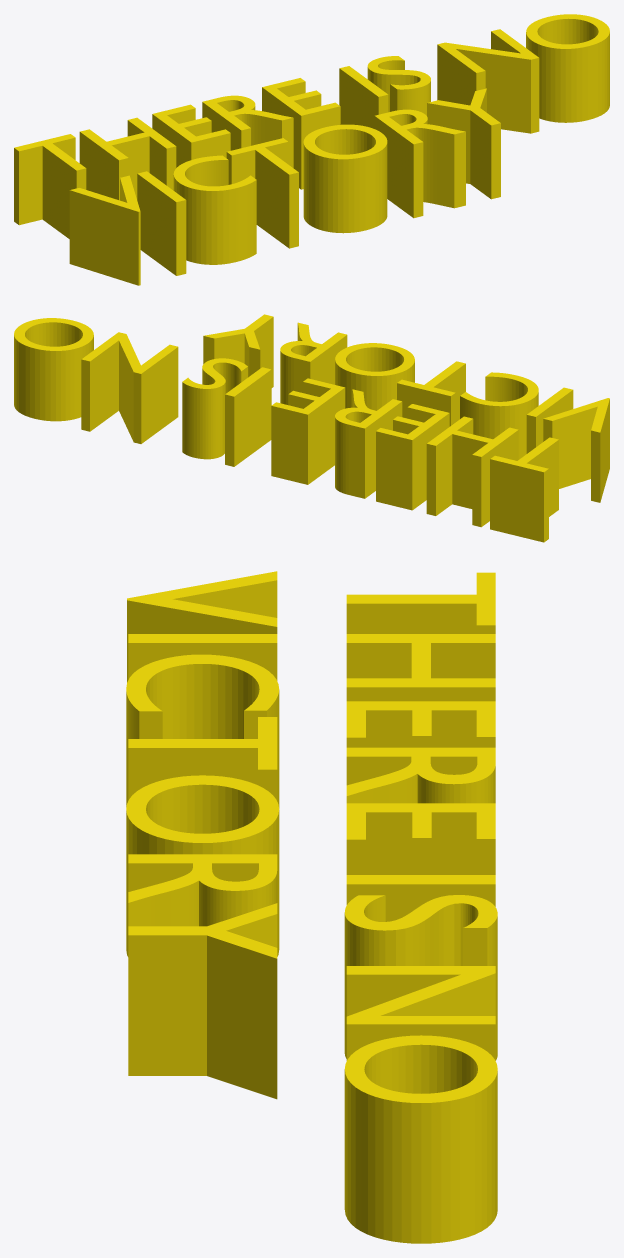
Rendered from There is no victory.fbx.
The picture shows the model from 3 angles, top to bottom: view 1: azimuth 30°, elevation 25°; view 2: azimuth 150°, elevation 25°; view 3: azimuth 270°, elevation 25°; orthographic projection. The views are drawn at different scales.
Visible parts, largest first — view 1: Text; view 2: Text; view 3: Text.
Part boxes in pixels (box(x1,y1,x2,y2)): Text: box(14, 14, 609, 285); Text: box(14, 314, 609, 542); Text: box(126, 571, 497, 1243).
Bounding box in the file's own units: 576 × 71 × 170.
